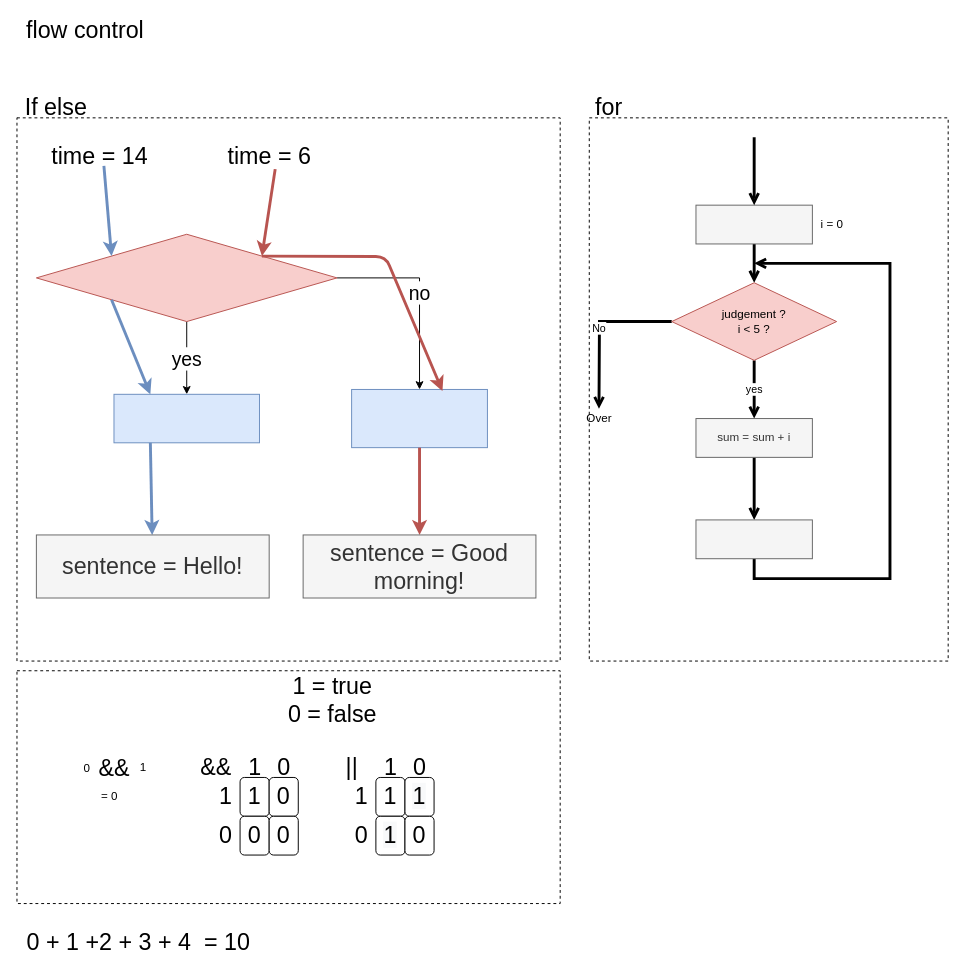
The diagram is 965 pixels wide and 973 high, and some of its shapes have lost their labels. Here are the shapes that lost their labels. From the top down, the centre of each, then its label:
At point 753,224: "Initial Expression".
At point 186,277: "if time > 8 && time <= 24".
At point 186,418: "say hello".
At point 419,418: "say good morning".
At point 753,539: "i = i + 2".
